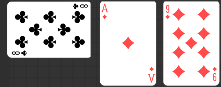8C: (11, 50, 29, 57)
9D: (212, 66, 218, 83)
AD: (101, 3, 110, 21)
